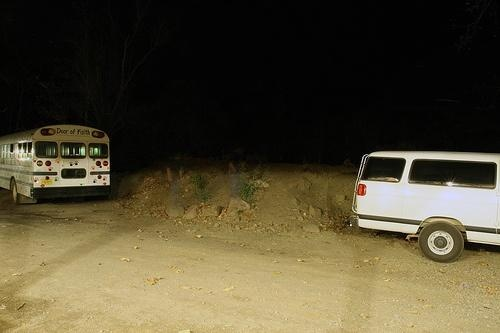bus: (2, 125, 112, 209)
car: (353, 150, 500, 262)
